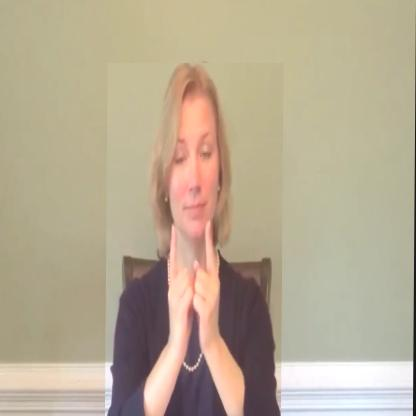NiceToMeetYou: (106, 63, 284, 416)
